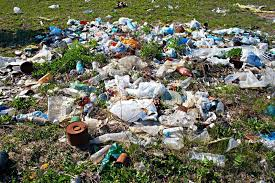garbage: (49, 21, 271, 142), (9, 52, 215, 121)
